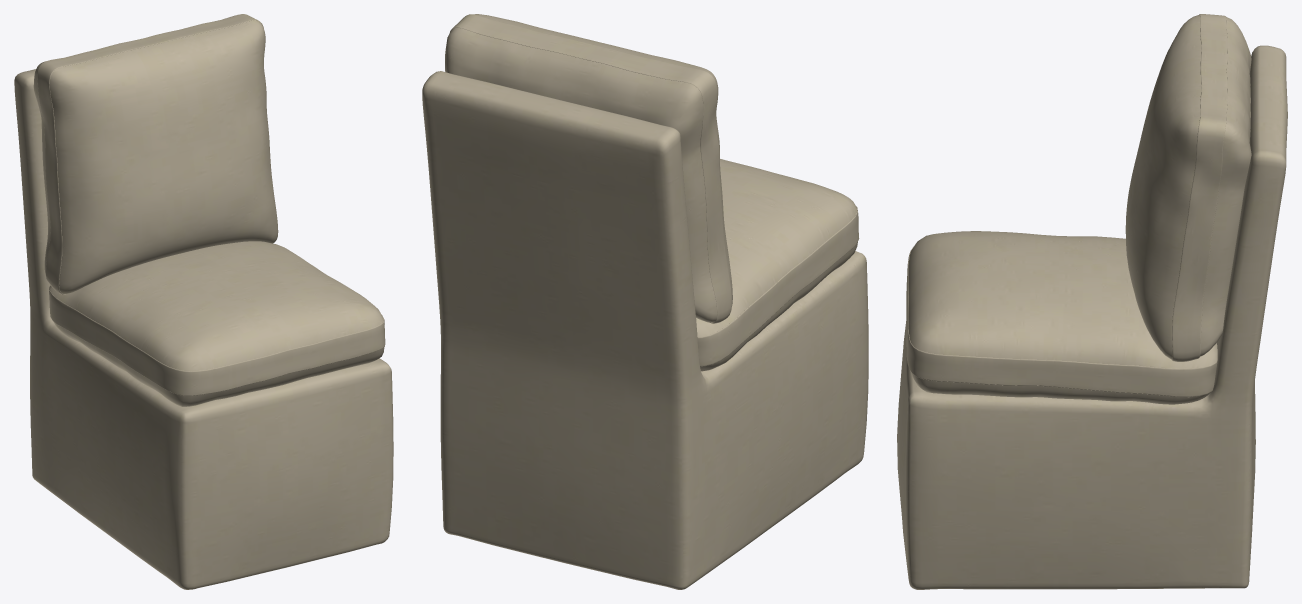
File: abo-B084W2RH5S.glb
3 renders of one model, left to right at view 1: azimuth 30°, elevation 25°; view 2: azimuth 150°, elevation 25°; view 3: azimuth 270°, elevation 25°, orthographic. The views are drawn at different scales.
Size of the model in its own units: 0.503 by 0.927 by 0.698.
Materials: 1 (1 with a texture image).
